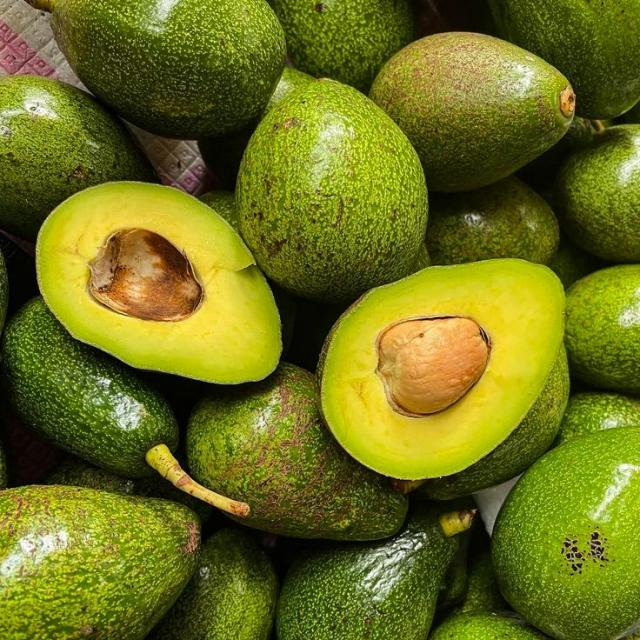avocado: (319, 259, 566, 479), (1, 297, 246, 513), (36, 182, 281, 383), (236, 80, 427, 303), (187, 363, 406, 539), (29, 0, 285, 139), (370, 33, 574, 192), (492, 427, 639, 639), (0, 487, 199, 639), (277, 503, 473, 639), (0, 75, 158, 240), (417, 347, 569, 499), (489, 0, 639, 119), (148, 528, 278, 639), (198, 67, 313, 190), (269, 0, 413, 93), (554, 125, 639, 262), (427, 176, 559, 264), (47, 455, 212, 521), (565, 265, 639, 394), (518, 118, 605, 190), (0, 400, 64, 486), (554, 392, 639, 445), (455, 527, 507, 613), (287, 300, 346, 371), (437, 527, 477, 615), (411, 0, 495, 39), (429, 612, 548, 639), (549, 232, 604, 289), (0, 233, 39, 313), (270, 283, 297, 355), (199, 190, 239, 233), (0, 251, 9, 333), (0, 442, 8, 489), (623, 102, 639, 124)
